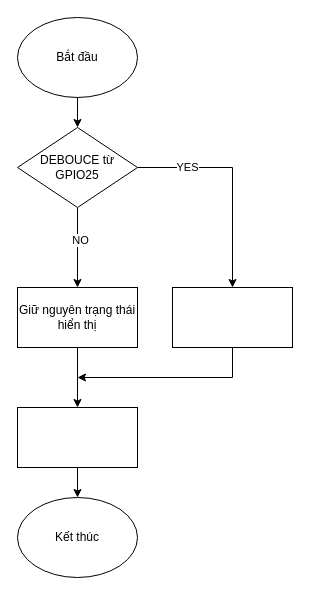
This 310x595 diagram has some shape labels left out. The shapes that lost their labels are listed below. From the top down, each one's box as (x1, y1, x2, y2) in pixels, then its label:
(172, 286, 292, 348): Chuyển đổi trạng thái hiển thị
(16, 406, 138, 468): Hiển thị lên LED 7 đoạn theo phương pháp nháy từng LED
